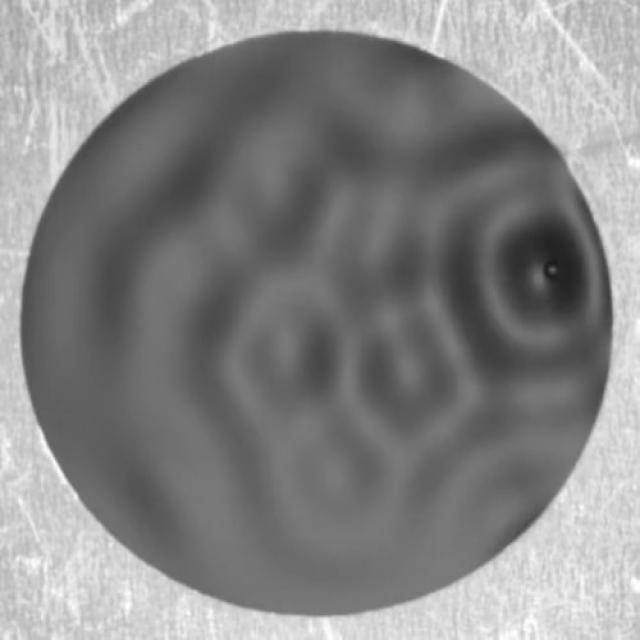droplet: (544, 259, 564, 284)
